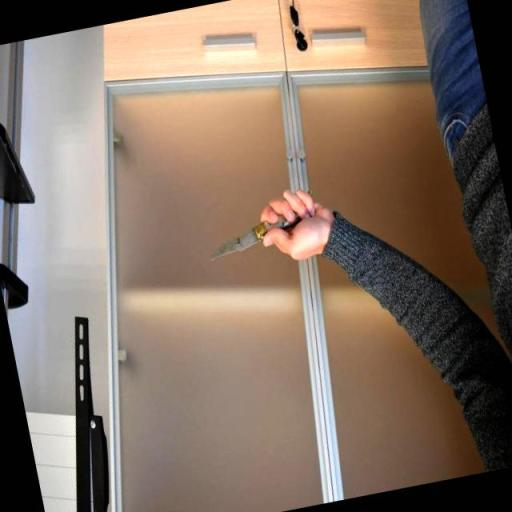knife: (206, 208, 306, 260)
